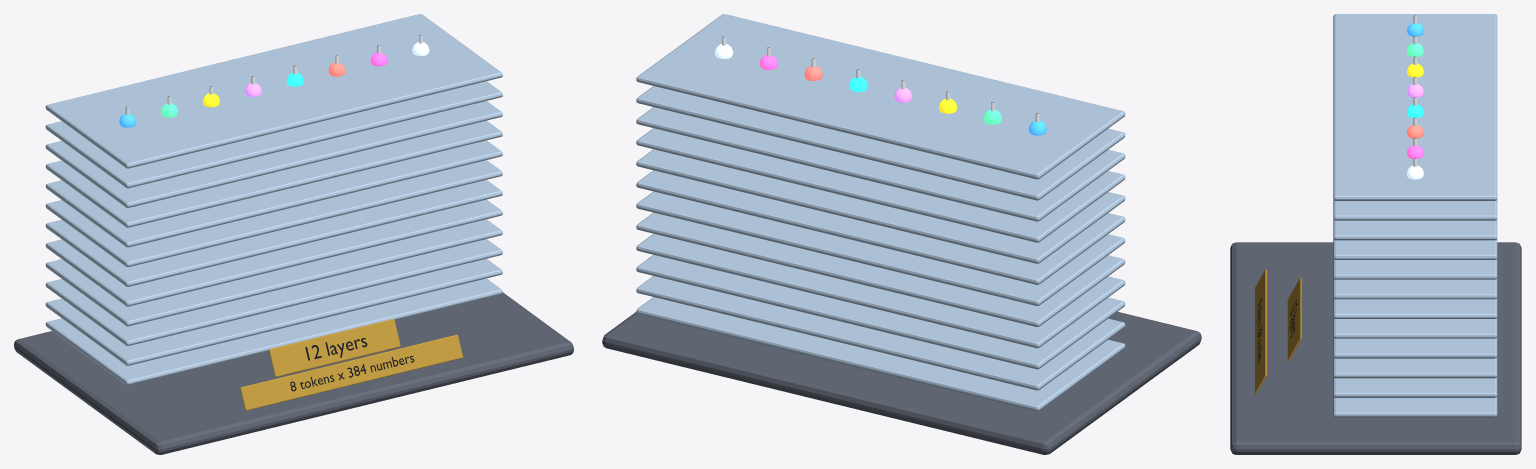
File: encoder.glb
3 views of the same model, side by side, from view 1: azimuth 30°, elevation 25°; view 2: azimuth 150°, elevation 25°; view 3: azimuth 270°, elevation 25° (orthographic). The views are drawn at different scales.
Parts seen in each view (by area): view 1: plate.011, stand, plate.003, plate.007, plate.010, plate.004, plate.008, plate.002, plate.005, plate.006, plate.009, plate.001 (+3 smaller); view 2: plate.011, stand, plate.001, plate.008, plate.004, plate.006, plate.010, plate.002, plate.003, plate.007, plate.005, plate (+1 smaller); view 3: stand, plate.011, plate.003, plate.006, plate.009, plate.002, plate.007, plate.010, plate, plate.004, plate.001, plate.005 (+4 smaller).
Part boxes in pixels (box(x1,y1,x2,y2)): plate.011: box(45, 14, 502, 168); stand: box(14, 292, 573, 454); plate.003: box(45, 219, 502, 326); plate.007: box(45, 140, 502, 247); plate.010: box(45, 81, 502, 188); plate.004: box(45, 199, 502, 306); plate.008: box(45, 120, 502, 227); plate.002: box(45, 239, 502, 345); plate.005: box(45, 180, 502, 286); plate.006: box(45, 160, 502, 267); plate.009: box(45, 101, 502, 207); plate.001: box(45, 258, 502, 365); plate.011: box(636, 14, 1125, 179); stand: box(602, 311, 1201, 454); plate.001: box(636, 276, 1125, 390); plate.008: box(636, 128, 1125, 242); plate.004: box(636, 212, 1125, 326); plate.006: box(636, 170, 1125, 284); plate.010: box(636, 86, 1125, 200); plate.002: box(636, 254, 1125, 369); plate.003: box(636, 233, 1125, 348); plate.007: box(636, 149, 1125, 263); plate.005: box(636, 191, 1125, 305); plate: box(636, 297, 1125, 411); stand: box(1230, 242, 1521, 454); plate.011: box(1333, 14, 1497, 200); plate.003: box(1333, 337, 1497, 358); plate.006: box(1333, 278, 1497, 299); plate.009: box(1333, 219, 1497, 240); plate.002: box(1333, 357, 1497, 378); plate.007: box(1333, 258, 1497, 279); plate.010: box(1333, 199, 1497, 220); plate: box(1333, 396, 1497, 417); plate.004: box(1333, 317, 1497, 338); plate.001: box(1333, 376, 1497, 397); plate.005: box(1333, 298, 1497, 318).
Size of the model in its own units: 1 by 0.6112 by 0.6031.
